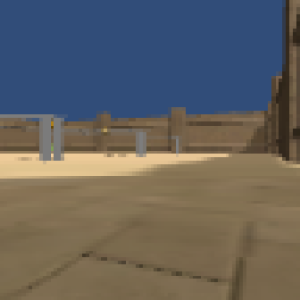goodGoalMulti: (100, 126, 112, 136)
wall: (39, 114, 52, 162), (54, 118, 65, 162), (136, 130, 146, 155), (174, 136, 180, 156)
